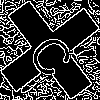C: (25, 25, 84, 82)
